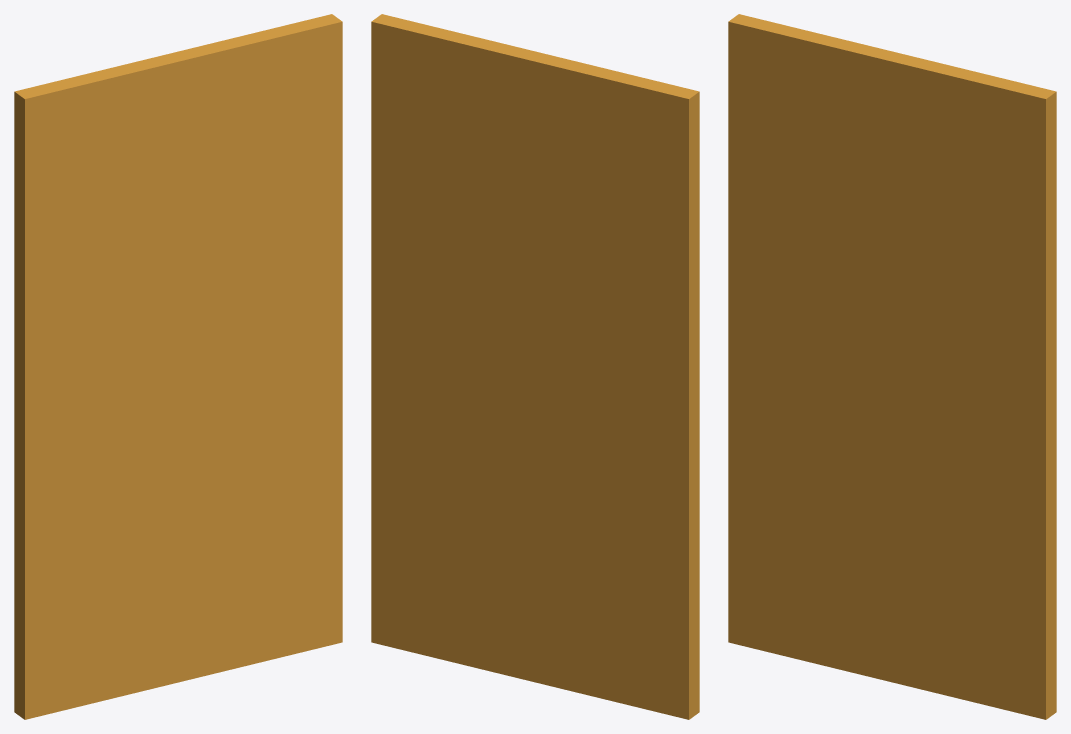
File: SchlafzimmerWand.fbx
The picture shows the model from 3 angles, left to right: view 1: azimuth 30°, elevation 25°; view 2: azimuth 150°, elevation 25°; view 3: azimuth 330°, elevation 25°; orthographic projection.
Parts seen in each view (by area): view 1: InnenwandSchlafzimmertuerRechts; view 2: InnenwandSchlafzimmertuerRechts; view 3: InnenwandSchlafzimmertuerRechts.
Boxes of the visible parts, left/top/right/bottom form: InnenwandSchlafzimmertuerRechts: left=14, top=14, right=342, bottom=719; InnenwandSchlafzimmertuerRechts: left=371, top=14, right=699, bottom=719; InnenwandSchlafzimmertuerRechts: left=728, top=14, right=1056, bottom=719.
Size of the model in its own units: 175 by 326 by 10.
